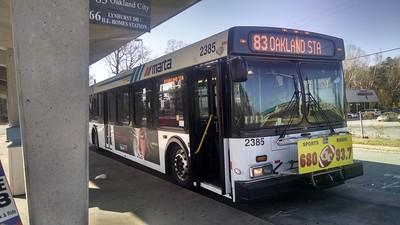bus: (89, 26, 364, 206)
